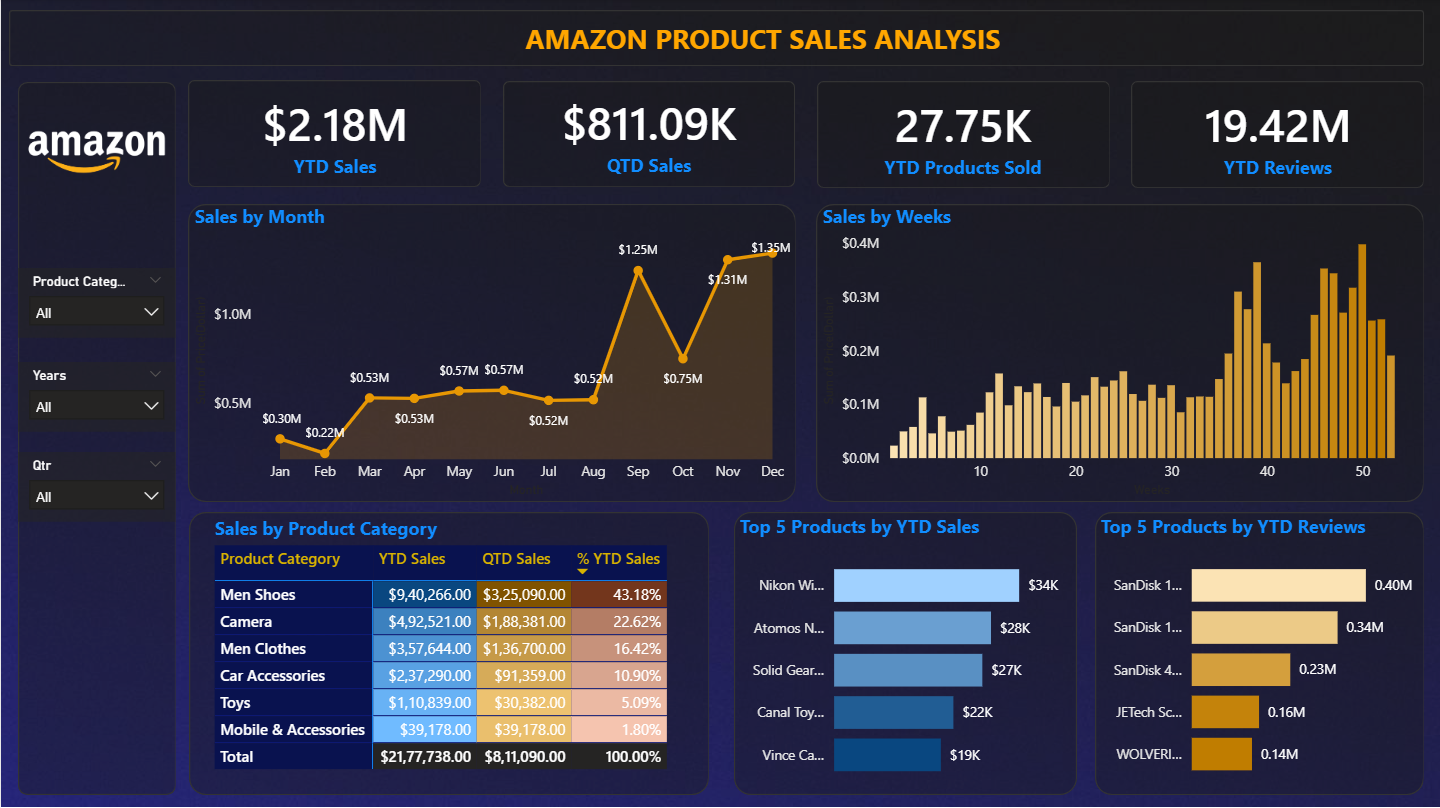

Layout of this report page (visuals, bound fields, positions):
{"tool":"powerbi","page":{"name":"Page 1","canvas":[1280,720],"ordinal":0},"visuals":[{"type":"shape","box":[7.1,9.8,1257.8,49.8],"z":0},{"type":"shape","box":[166.2,72,260.4,95.1],"z":0,"group":"g1"},{"type":"textbox","box":[418.7,9.8,517.3,46.2],"z":1000},{"type":"shape","box":[446.2,72.9,259.6,94.2],"z":1000,"group":"g1"},{"type":"card","fields":{"Values":["Amazon_Data.YTD Sales"]},"box":[176.9,72.9,240,95.1],"z":2000,"group":"g1"},{"type":"shape","box":[15.1,73.8,140.4,633.8],"z":2000},{"type":"group","id":"g1","title":"Group 1","box":[166.2,72,1098.7,96.9],"z":3000},{"type":"card","fields":{"Values":["Amazon_Data.QTD Sales"]},"box":[474.6,72,202.7,95.1],"z":3000,"group":"g1"},{"type":"shape","box":[724.9,72.6,260.4,95.1],"z":4000,"group":"g1"},{"type":"shape","box":[166.2,182.2,540.4,264.9],"z":4000},{"type":"shape","box":[1004.4,73.2,260.4,95.1],"z":5000,"group":"g1"},{"type":"areaChart","title":"Sales by Month","fields":{"Category":["Date Table.Month"],"Y":["Sum(Amazon_Data.Price(Dollar))"]},"box":[167.1,182.2,539.6,264.9],"z":5000},{"type":"card","fields":{"Values":["Amazon_Data.YTD Products Sold"]},"box":[753.8,73.8,202.7,95.1],"z":6000,"group":"g1"},{"type":"shape","box":[724.4,182.2,540.4,264.9],"z":6000},{"type":"card","fields":{"Values":["Amazon_Data.YTD Reviews"]},"box":[1033.8,73.8,202.7,95.1],"z":7000,"group":"g1"},{"type":"columnChart","title":"Sales by Weeks","fields":{"Category":["Date Table.Weeks"],"Y":["Sum(Amazon_Data.Price(Dollar))"]},"box":[725.3,182.2,539.6,264.9],"z":7000},{"type":"shape","box":[167.1,456,462.2,251.6],"z":8000},{"type":"pivotTable","title":"Sales by Product Category","fields":{"Rows":["Amazon_Data.Product Category"],"Values":["Amazon_Data.YTD Sales1","Amazon_Data.QTD Sales","Amazon_Data.YTD Sales"]},"box":[184.9,459.6,451.6,260.4],"z":9000},{"type":"shape","box":[651.6,456,304.9,251.6],"z":10000,"group":"g2"},{"type":"shape","box":[972.4,456,292.4,251.6],"z":10000},{"type":"clusteredBarChart","title":"Top 5 Products by YTD Reviews","fields":{"Category":["Amazon_Data.Product Description"],"Y":["Amazon_Data.YTD Reviews"]},"box":[972.4,457.8,292.4,248.9],"z":11000},{"type":"slicer","fields":{"Values":["Amazon_Data.Product Category"]},"box":[15.1,239.1,140.4,62.2],"z":12000},{"type":"clusteredBarChart","title":"Top 5 Products by YTD Sales","fields":{"Category":["Amazon_Data.Product Description"],"Y":["Amazon_Data.YTD Sales"]},"box":[651.6,457.8,304.9,249.7],"z":12000,"group":"g2"},{"type":"slicer","fields":{"Values":["Date Table.Qtr"]},"box":[15.1,402.7,140.4,62.2],"z":13000},{"type":"slicer","fields":{"Values":["Date Table.Years"]},"box":[15.1,322.7,140.4,62.2],"z":14000},{"type":"group","id":"g2","title":"Group 2","box":[651.6,456,304.9,251.6],"z":15000},{"type":"image","box":[15.1,104,140.4,63.1],"z":16000}]}

Visuals, with their boxes in screenshot pixels (x1, y1, x2, y2), scaled from the page's 1280x720 canvas onto the 1440x808 screenshot:
shape: pyautogui.locateOnScreen(8, 11, 1423, 67)
shape: pyautogui.locateOnScreen(187, 81, 480, 188)
textbox: pyautogui.locateOnScreen(471, 11, 1053, 63)
shape: pyautogui.locateOnScreen(502, 82, 794, 188)
card - Amazon_Data.YTD Sales: pyautogui.locateOnScreen(199, 82, 469, 189)
shape: pyautogui.locateOnScreen(17, 83, 175, 794)
"Group 1" group: pyautogui.locateOnScreen(187, 81, 1423, 190)
card - Amazon_Data.QTD Sales: pyautogui.locateOnScreen(534, 81, 762, 188)
shape: pyautogui.locateOnScreen(816, 81, 1108, 188)
shape: pyautogui.locateOnScreen(187, 204, 795, 502)
shape: pyautogui.locateOnScreen(1130, 82, 1423, 189)
"Sales by Month" areaChart: pyautogui.locateOnScreen(188, 204, 795, 502)
card - Amazon_Data.YTD Products Sold: pyautogui.locateOnScreen(848, 83, 1076, 190)
shape: pyautogui.locateOnScreen(815, 204, 1423, 502)
card - Amazon_Data.YTD Reviews: pyautogui.locateOnScreen(1163, 83, 1391, 190)
"Sales by Weeks" columnChart: pyautogui.locateOnScreen(816, 204, 1423, 502)
shape: pyautogui.locateOnScreen(188, 512, 708, 794)
"Sales by Product Category" pivotTable: pyautogui.locateOnScreen(208, 516, 716, 807)
shape: pyautogui.locateOnScreen(733, 512, 1076, 794)
shape: pyautogui.locateOnScreen(1094, 512, 1423, 794)
"Top 5 Products by YTD Reviews" clusteredBarChart: pyautogui.locateOnScreen(1094, 514, 1423, 793)
slicer - Amazon_Data.Product Category: pyautogui.locateOnScreen(17, 268, 175, 338)
"Top 5 Products by YTD Sales" clusteredBarChart: pyautogui.locateOnScreen(733, 514, 1076, 794)
slicer - Date Table.Qtr: pyautogui.locateOnScreen(17, 452, 175, 522)
slicer - Date Table.Years: pyautogui.locateOnScreen(17, 362, 175, 432)
"Group 2" group: pyautogui.locateOnScreen(733, 512, 1076, 794)
image: pyautogui.locateOnScreen(17, 117, 175, 188)
